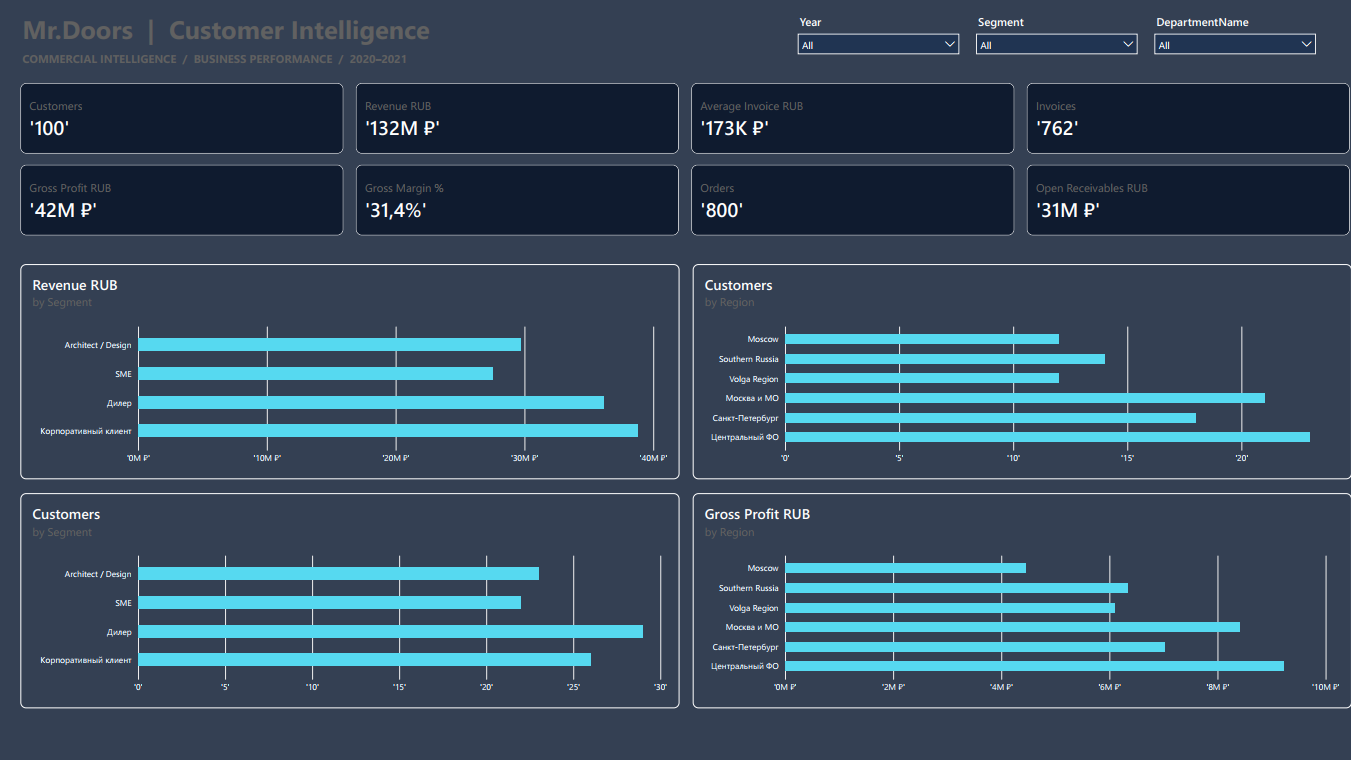

Layout of this report page (visuals, bound fields, positions):
{"tool":"powerbi","page":{"name":"04 | Customer Intelligence","canvas":[1920,1080],"ordinal":3},"visuals":[{"type":"slicer","fields":{"Values":["DimDate.Year"]},"box":[1130,20,239,80],"z":10},{"type":"slicer","fields":{"Values":["DimCustomer.Segment"]},"box":[1383,20,239,80],"z":10},{"type":"slicer","fields":{"Values":["DimDepartment.DepartmentName"]},"box":[1636,20,239,80],"z":10},{"type":"cardVisual","fields":{"Data":["FactSales.Customers"]},"box":[32,118,458,100],"z":10},{"type":"cardVisual","fields":{"Data":["FactSales.Revenue RUB"]},"box":[508,118,458,100],"z":10},{"type":"cardVisual","fields":{"Data":["FactSales.Average Invoice RUB"]},"box":[984,118,458,100],"z":10},{"type":"cardVisual","fields":{"Data":["FactSales.Invoices"]},"box":[1460,118,458,100],"z":10},{"type":"cardVisual","fields":{"Data":["FactSales.Gross Profit RUB"]},"box":[32,234,458,100],"z":10},{"type":"cardVisual","fields":{"Data":["FactSales.Gross Margin %"]},"box":[508,234,458,100],"z":10},{"type":"cardVisual","fields":{"Data":["FactSales.Orders"]},"box":[984,234,458,100],"z":10},{"type":"cardVisual","fields":{"Data":["FactSales.Open Receivables RUB"]},"box":[1460,234,458,100],"z":10},{"type":"clusteredBarChart","fields":{"Category":["DimCustomer.Segment"],"Y":["FactSales.Revenue RUB"]},"box":[32,375,935,305],"z":10},{"type":"clusteredBarChart","fields":{"Category":["DimCustomer.Region"],"Y":["FactSales.Customers"]},"box":[986,375,935,305],"z":10},{"type":"clusteredBarChart","fields":{"Category":["DimCustomer.Segment"],"Y":["FactSales.Customers"]},"box":[32,700,935,305],"z":10},{"type":"clusteredBarChart","fields":{"Category":["DimCustomer.Region"],"Y":["FactSales.Gross Profit RUB"]},"box":[986,700,935,305],"z":10},{"type":"textbox","box":[35,16,1050,55],"z":15000},{"type":"textbox","box":[35,72,1050,32],"z":15000}]}

Visuals, with their boxes in screenshot pixels (x1, y1, x2, y2), scaled from the page's 1920x1080 canvas onto the 1352x760 screenshot:
slicer - DimDate.Year: 796,14,964,70
slicer - DimCustomer.Segment: 974,14,1142,70
slicer - DimDepartment.DepartmentName: 1152,14,1320,70
cardVisual - FactSales.Customers: 23,83,345,153
cardVisual - FactSales.Revenue RUB: 358,83,680,153
cardVisual - FactSales.Average Invoice RUB: 693,83,1015,153
cardVisual - FactSales.Invoices: 1028,83,1351,153
cardVisual - FactSales.Gross Profit RUB: 23,165,345,235
cardVisual - FactSales.Gross Margin %: 358,165,680,235
cardVisual - FactSales.Orders: 693,165,1015,235
cardVisual - FactSales.Open Receivables RUB: 1028,165,1351,235
clusteredBarChart - DimCustomer.Segment x FactSales.Revenue RUB: 23,264,681,479
clusteredBarChart - DimCustomer.Region x FactSales.Customers: 694,264,1351,479
clusteredBarChart - DimCustomer.Segment x FactSales.Customers: 23,493,681,707
clusteredBarChart - DimCustomer.Region x FactSales.Gross Profit RUB: 694,493,1351,707
textbox: 25,11,764,50
textbox: 25,51,764,73
